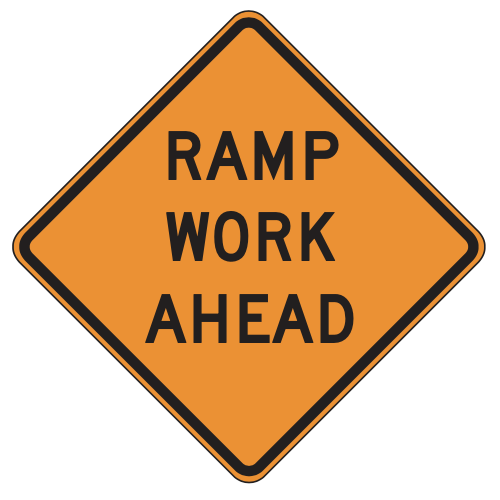Road_workahead: (14, 9, 487, 484)
